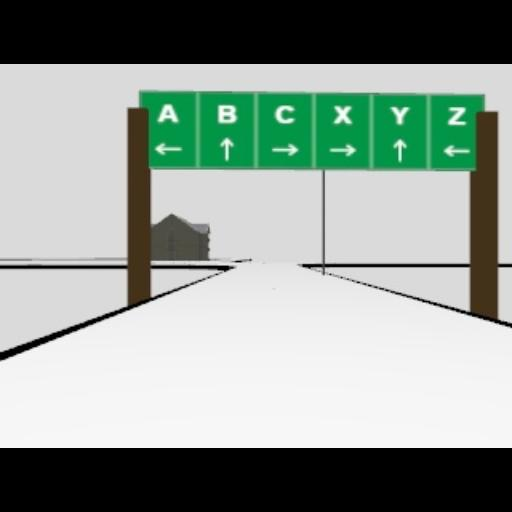A: (156, 102, 178, 124)
B: (216, 104, 236, 124)
C: (274, 104, 294, 124)
Left: (154, 142, 182, 156), (442, 144, 470, 156)
Right: (270, 142, 300, 156), (328, 144, 356, 156)
Straight: (219, 136, 233, 160), (392, 138, 406, 162)
X: (332, 104, 352, 124)
Y: (388, 106, 410, 124)
Z: (446, 106, 466, 124)
